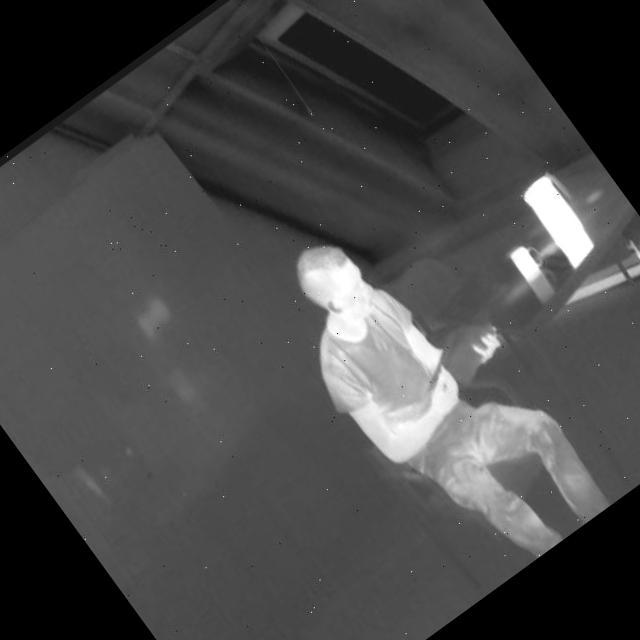person: (245, 178, 623, 602)
